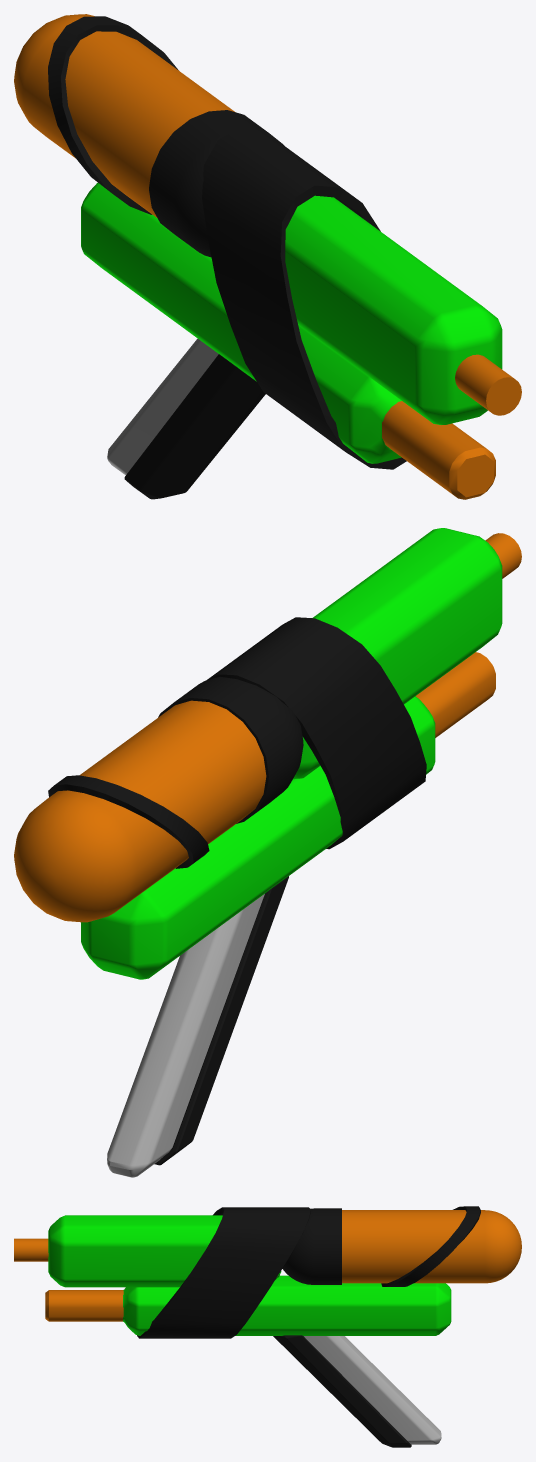
The model's file is Water_Gun.fbx.
3 renders of one model, top to bottom at view 1: azimuth 30°, elevation 25°; view 2: azimuth 150°, elevation 25°; view 3: azimuth 270°, elevation 25°, orthographic. The views are drawn at different scales.
Visible parts, largest first — view 1: pCube6; view 2: pCube6; view 3: pCube6.
Boxes of the visible parts, box(x1,y1,x2,y2) form: pCube6: box(14, 14, 521, 499); pCube6: box(14, 528, 521, 1177); pCube6: box(14, 1206, 521, 1447).
Size of the model in its own units: 0.0808 by 0.2566 by 0.5037.
